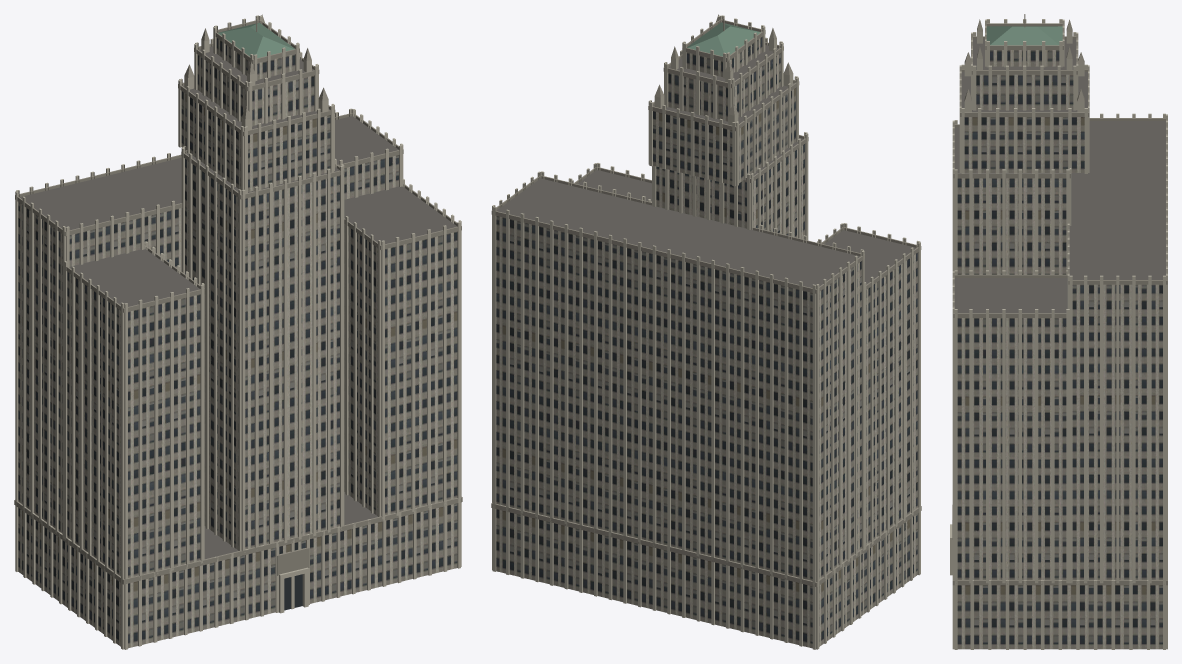
Rendered from russ_building.glb.
The picture shows the model from 3 angles, left to right: view 1: azimuth 30°, elevation 25°; view 2: azimuth 150°, elevation 25°; view 3: azimuth 270°, elevation 25°; orthographic projection. The views are drawn at different scales.
Visible parts, largest first — view 1: russ_building; view 2: russ_building; view 3: russ_building.
Boxes of the visible parts, <box> form: russ_building: <box>14,14,462,649</box>; russ_building: <box>491,14,921,649</box>; russ_building: <box>950,14,1167,649</box>.
Bounding box in the file's own units: 83.8 × 133 × 47.4.
Materials: 2 (2 with a texture image).
